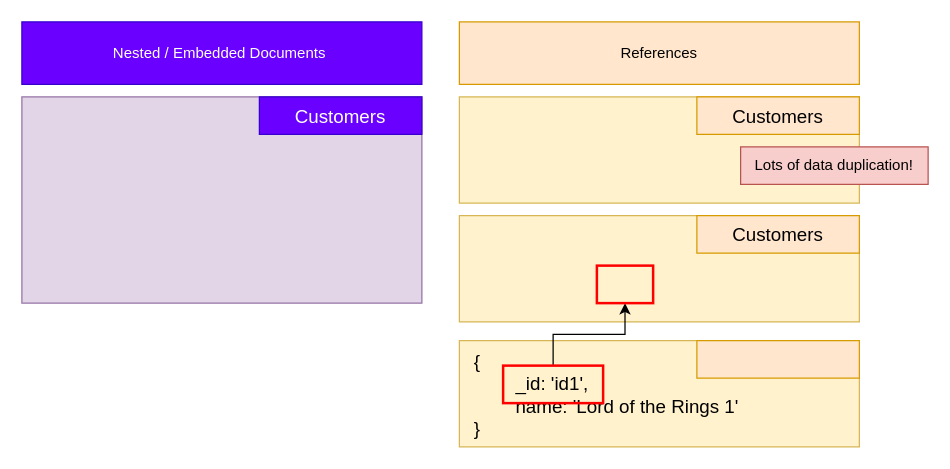
Some shapes in this 950 by 469 pixel diagram are drawn without their labels. The shapes that lost their labels are listed below. From the top down, each one's box as (x1, y1, x2, y2) in pixels, then its label:
(458, 96, 859, 203): { userName: 'jefté’, favBooks: [{...}, {...}] }
(21, 96, 422, 303): { userName: 'jefté’, age: 29, address: { street: 'XX', city: 'Bahia' } }
(458, 214, 859, 322): { userName: 'jefté’, favBooks: ['id1', 'id2'] }
(696, 339, 859, 378): Books
